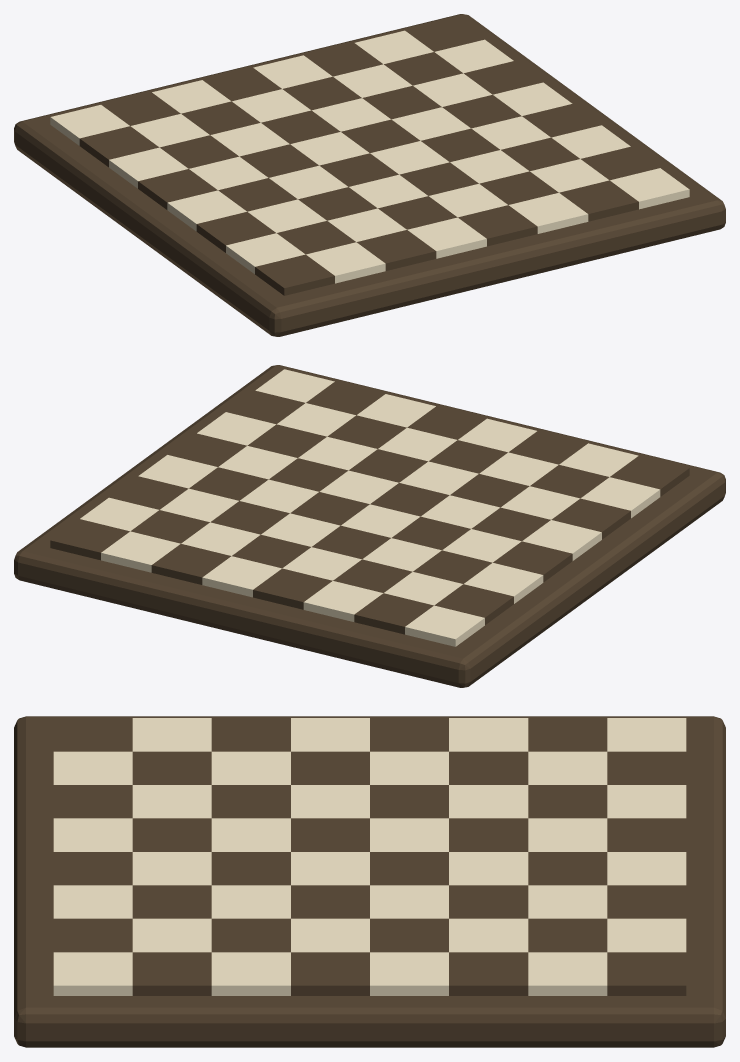
The model's file is SM_IntellectualGrandpaHouse_ChessBoard.fbx.
3 renders of one model, top to bottom at view 1: azimuth 30°, elevation 25°; view 2: azimuth 150°, elevation 25°; view 3: azimuth 270°, elevation 25°, orthographic. The views are drawn at different scales.
Parts seen in each view (by area): view 1: SM_IntellectualGrandpaHouse_ChessBoard; view 2: SM_IntellectualGrandpaHouse_ChessBoard; view 3: SM_IntellectualGrandpaHouse_ChessBoard.
Part boxes in pixels (x1=…): SM_IntellectualGrandpaHouse_ChessBoard: x1=14, y1=14, x2=725, y2=336; SM_IntellectualGrandpaHouse_ChessBoard: x1=14, y1=365, x2=725, y2=687; SM_IntellectualGrandpaHouse_ChessBoard: x1=14, y1=716, x2=725, y2=1047.
Size of the model in its own units: 90 by 90 by 6.95.
